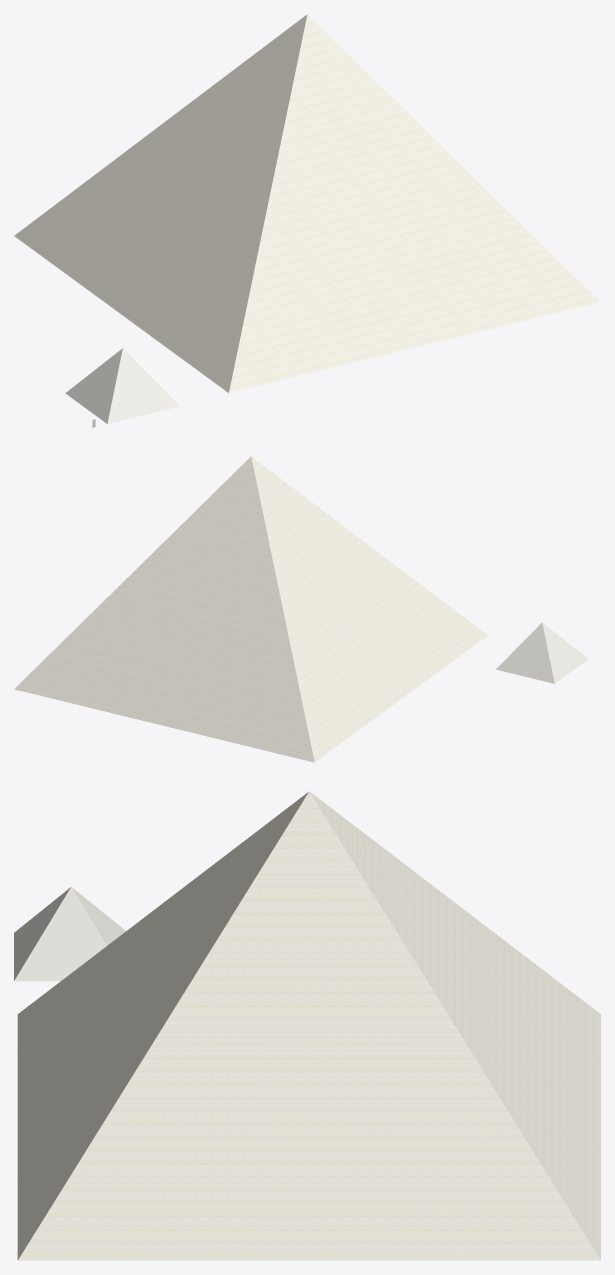
Rendered from Niuserre_Pyramid.glb.
3 views of the same model, one above another, from view 1: azimuth 30°, elevation 25°; view 2: azimuth 150°, elevation 25°; view 3: azimuth 270°, elevation 25° (orthographic). The views are drawn at different scales.
Parts seen in each view (by area): view 1: Mesh1 Model, Mesh2 Model; view 2: Mesh1 Model, Mesh2 Model; view 3: Mesh1 Model, Mesh2 Model.
Boxes of the visible parts, bbox=[...] form: Mesh1 Model: bbox=[14, 14, 600, 392]; Mesh2 Model: bbox=[65, 348, 179, 423]; Mesh1 Model: bbox=[14, 456, 487, 762]; Mesh2 Model: bbox=[496, 622, 588, 683]; Mesh1 Model: bbox=[17, 791, 600, 1260]; Mesh2 Model: bbox=[14, 887, 125, 981].
Bounding box in the file's own units: 108 × 51.68 × 79.41.
3 materials, 2 textured.
